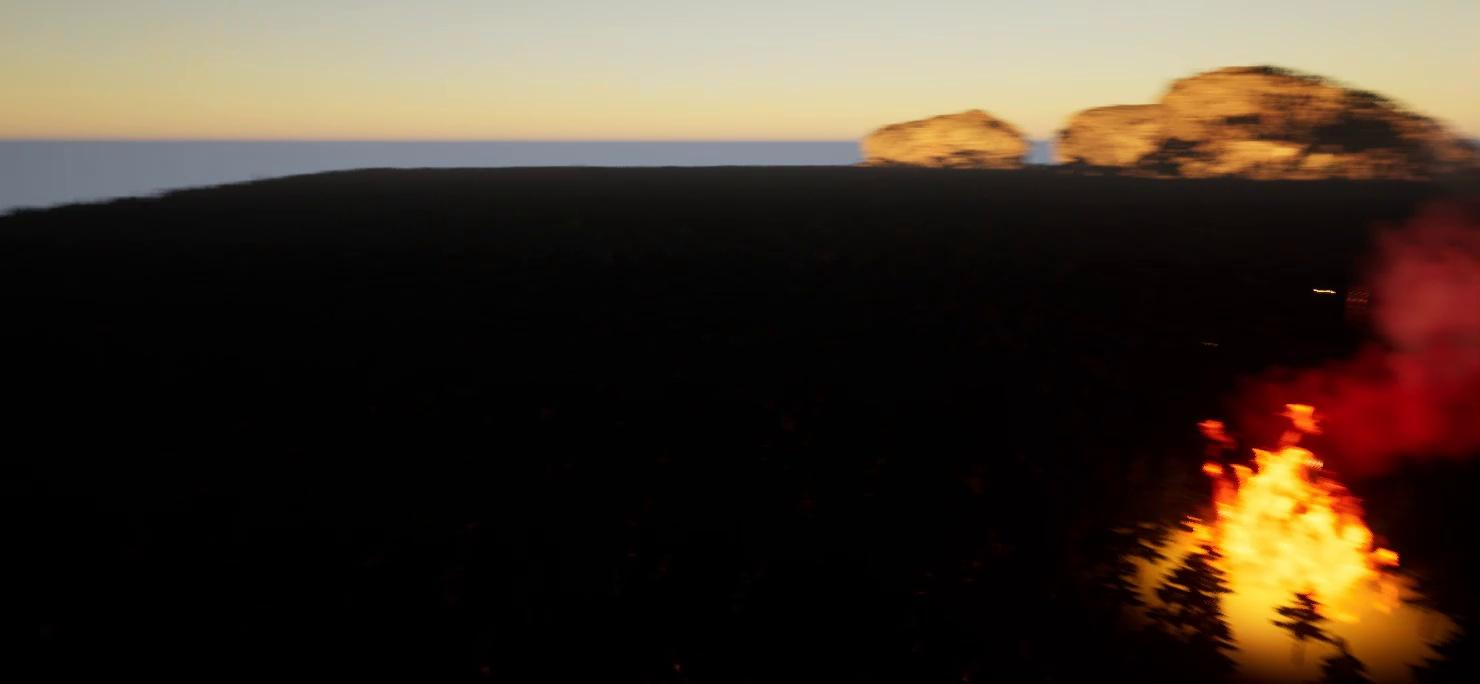fire: (1185, 412, 1399, 626)
smoke: (1247, 214, 1479, 446)
